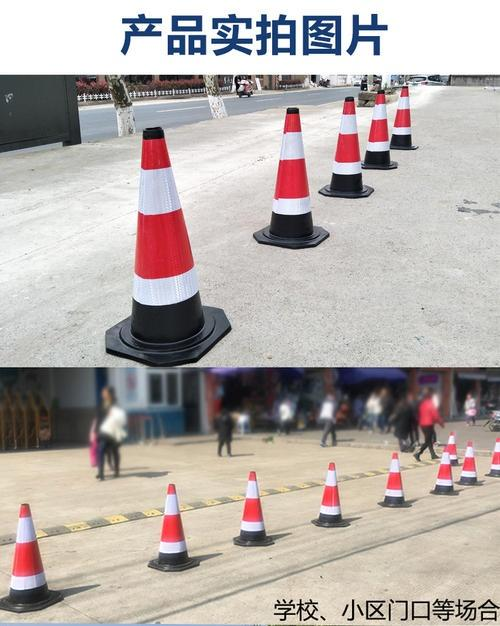cone_barrel: (111, 126, 219, 354), (255, 107, 323, 246), (3, 504, 56, 603), (323, 94, 368, 198), (148, 482, 193, 570), (231, 470, 270, 547), (364, 85, 392, 165), (312, 459, 345, 526), (378, 451, 408, 507), (389, 82, 414, 148), (432, 445, 457, 494), (456, 438, 481, 485), (486, 435, 499, 476)
